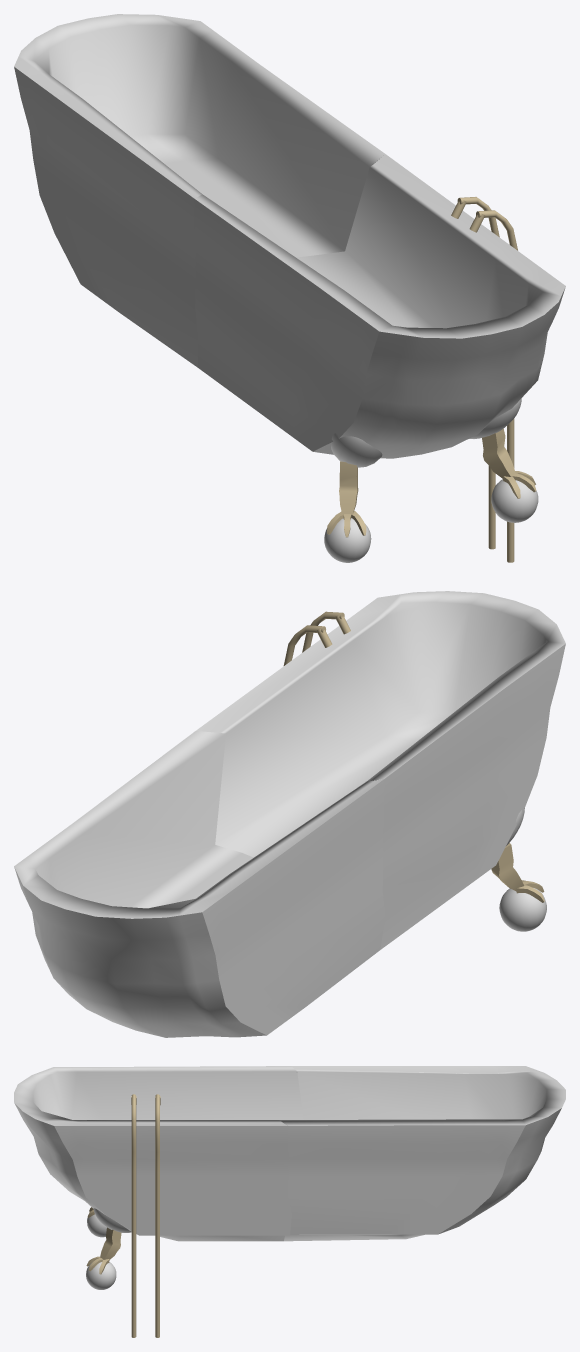
The model's file is BathTub.fbx.
The picture shows the model from 3 angles, top to bottom: view 1: azimuth 30°, elevation 25°; view 2: azimuth 150°, elevation 25°; view 3: azimuth 270°, elevation 25°; orthographic projection. The views are drawn at different scales.
Parts seen in each view (by area): view 1: polySurface52, polySurface37, polySurface44, polySurface43, polySurface36, polySurface41, polySurface49, polySurface48; view 2: polySurface52, polySurface44, polySurface48; view 3: polySurface52, polySurface36, polySurface49, polySurface37, polySurface41.
Boxes of the visible parts, bbox=[...] form: polySurface52: bbox=[14, 14, 565, 458]; polySurface37: bbox=[491, 479, 538, 522]; polySurface44: bbox=[324, 518, 371, 562]; polySurface43: bbox=[331, 433, 382, 467]; polySurface36: bbox=[476, 210, 517, 562]; polySurface41: bbox=[482, 429, 515, 478]; polySurface49: bbox=[457, 197, 499, 549]; polySurface48: bbox=[339, 461, 358, 514]; polySurface52: bbox=[14, 591, 565, 1037]; polySurface44: bbox=[499, 888, 546, 931]; polySurface48: bbox=[491, 843, 523, 890]; polySurface52: bbox=[14, 1066, 565, 1241]; polySurface36: bbox=[131, 1094, 136, 1337]; polySurface49: bbox=[155, 1094, 159, 1337]; polySurface37: bbox=[86, 1262, 116, 1289]; polySurface41: bbox=[100, 1227, 121, 1259].
Bounding box in the file's own units: 6.23 × 9.88 × 21.26.
